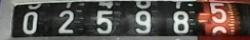digits: (95, 10, 113, 34), (57, 10, 74, 34), (133, 10, 151, 32), (209, 2, 227, 24), (172, 11, 189, 34), (21, 11, 38, 34)
